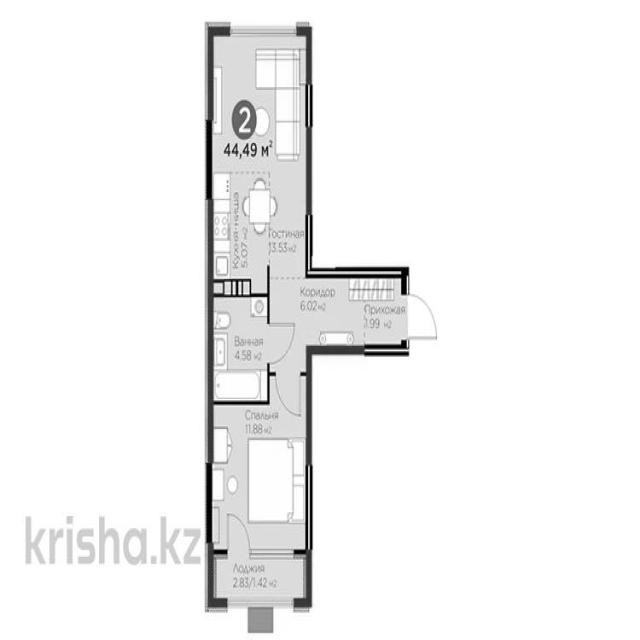balcony: (214, 555, 309, 603)
bathroom: (212, 294, 269, 402)
hallway: (271, 285, 404, 345)
living_room: (211, 402, 307, 552)
studio: (210, 34, 306, 284)
